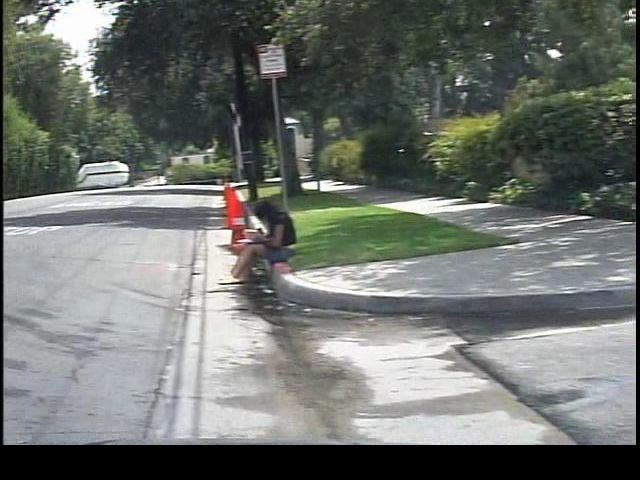person: (209, 194, 297, 287)
